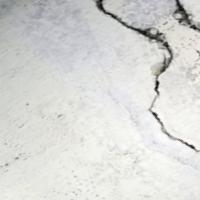crack: (89, 0, 199, 154)
